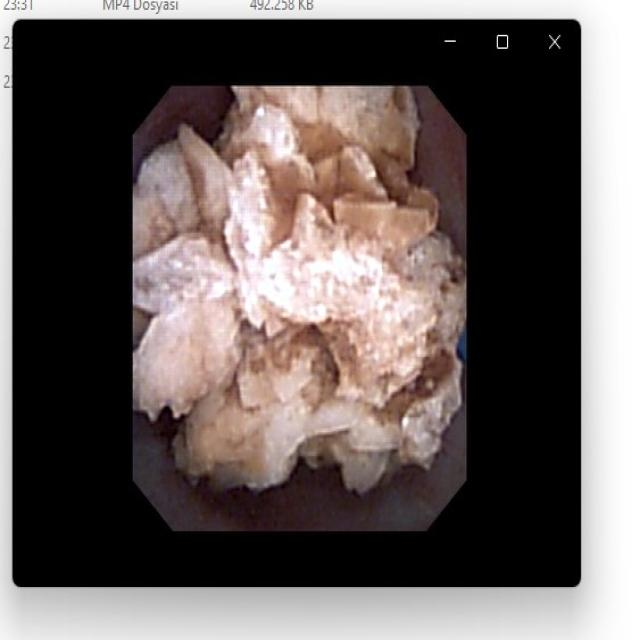stone: (135, 89, 462, 490)
